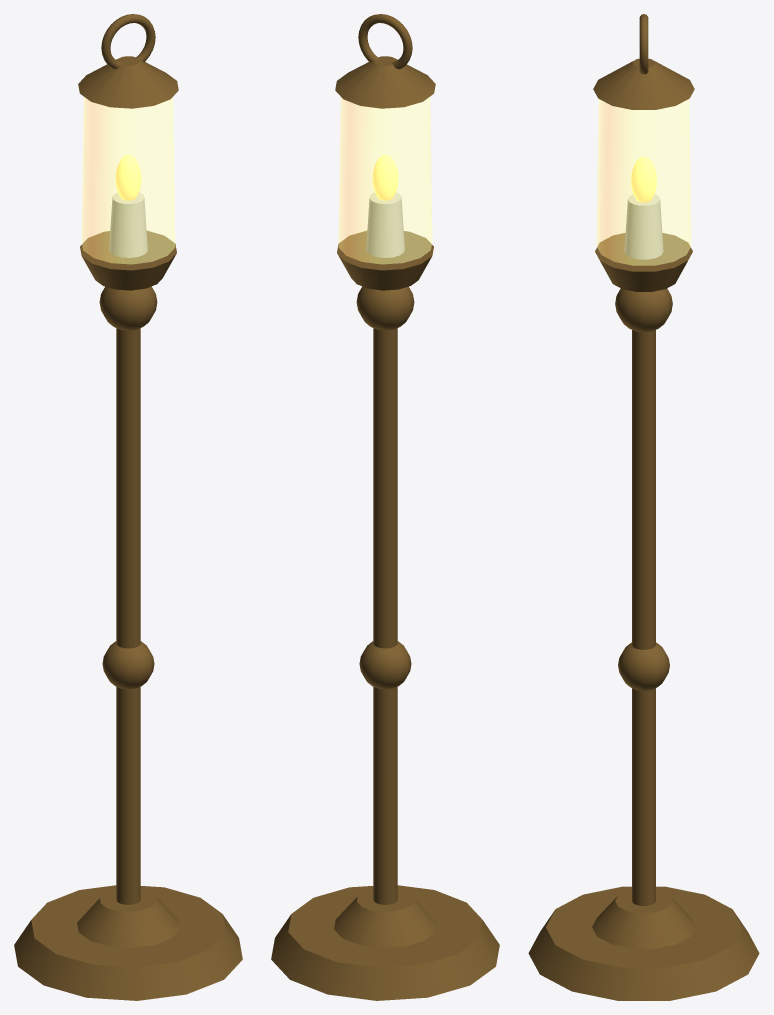
Rendered from sanctuary-lamp.glb.
3 views of the same model, side by side, from view 1: azimuth 30°, elevation 25°; view 2: azimuth 150°, elevation 25°; view 3: azimuth 270°, elevation 25° (orthographic).
Parts seen in each view (by area): view 1: object 1, Glass, object 3, object 2, object 10, object 6, object 7, object 5, object 4, object 11, object 8; view 2: object 1, Glass, object 3, object 2, object 10, object 6, object 7, object 5, object 4, object 11, object 8; view 3: object 1, Glass, object 3, object 2, object 10, object 6, object 7, object 5, object 4, object 8, object 11.
Part boxes in pixels (x1,y1,x2,y2): object 1: (14,885,242,1000); Glass: (81,97,175,264); object 3: (116,328,140,904); object 2: (77,889,179,947); object 10: (78,56,178,108); object 6: (80,230,176,290); object 7: (109,192,147,257); object 5: (99,286,157,330); object 4: (102,641,154,689); object 11: (101,14,155,69); object 8: (115,155,141,200); object 1: (271,885,499,1000); Glass: (338,97,432,264); object 3: (373,328,397,904); object 2: (334,889,436,947); object 10: (335,56,435,108); object 6: (337,230,433,290); object 7: (366,192,404,257); object 5: (356,286,414,330); object 4: (359,641,411,689); object 11: (358,14,412,69); object 8: (372,155,398,200); object 1: (528,886,759,1000); Glass: (596,99,691,265); object 3: (632,330,655,905); object 2: (592,890,695,948); object 10: (593,58,694,109); object 6: (595,233,692,291); object 7: (624,194,663,259); object 5: (615,288,672,332); object 4: (618,642,669,690); object 8: (631,156,656,202); object 11: (639,14,648,74).
Size of the model in its own units: 0.39 by 1.79 by 0.4.
